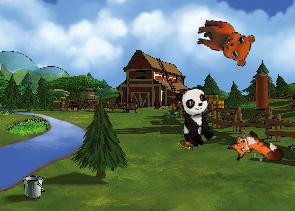bear: (192, 17, 256, 68)
fox: (224, 122, 286, 180)
panda: (173, 84, 218, 149)
